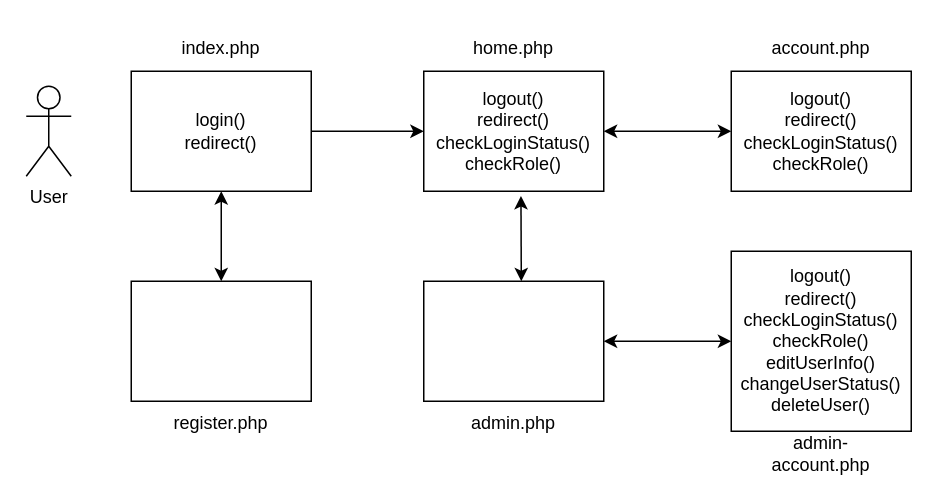
The diagram is 938 pixels wide and 501 high, and some of its shapes have lost their labels. Here are the shapes that lost their labels. From the top down, the centre of each, then its label:
At point (220, 340): "register() redirect()".
At point (513, 340): "checkLoginStatus() checkUserRole() searchUsers()".
